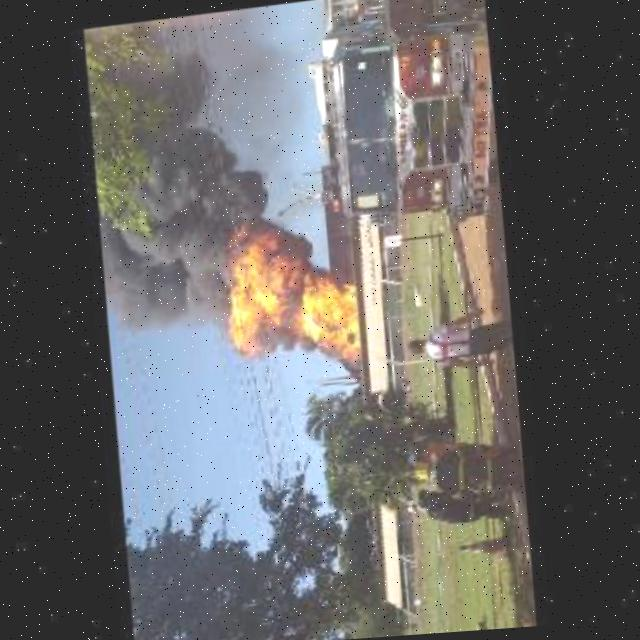fire: (85, 126, 255, 348), (203, 208, 365, 377)
